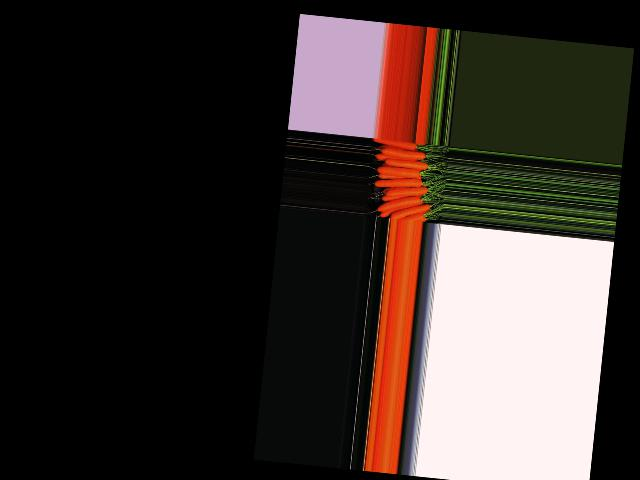carrot: (386, 204, 429, 217)
